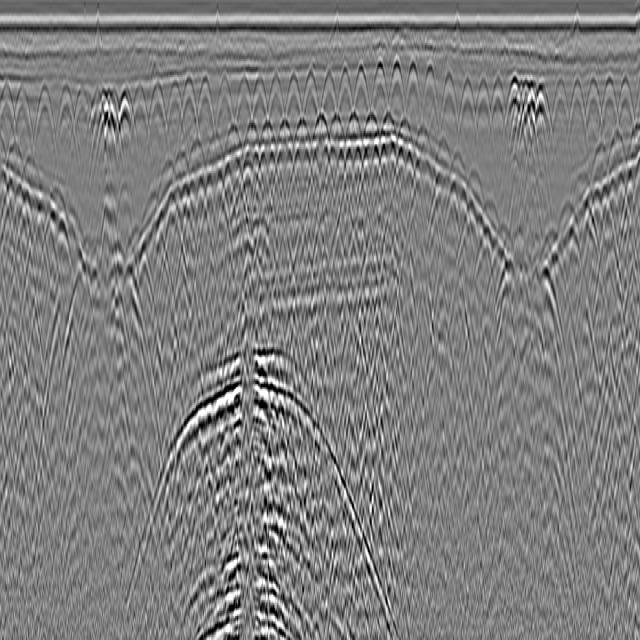hyperbola: (54, 74, 85, 185), (177, 67, 206, 177), (196, 60, 220, 160), (70, 68, 92, 176), (13, 55, 33, 166), (502, 68, 525, 158), (455, 61, 477, 153), (32, 81, 54, 171), (439, 47, 458, 150), (530, 68, 553, 153), (490, 58, 508, 161), (598, 64, 618, 156), (282, 55, 304, 138), (232, 52, 252, 143), (370, 52, 391, 138), (616, 55, 635, 150), (131, 55, 148, 161), (116, 77, 135, 171), (353, 54, 374, 138), (475, 68, 493, 166), (216, 55, 234, 151), (421, 42, 439, 138), (388, 49, 406, 142), (164, 64, 182, 156), (147, 81, 168, 158), (584, 74, 602, 161), (569, 71, 586, 161), (319, 55, 338, 133), (0, 58, 15, 156), (266, 55, 285, 130), (301, 62, 320, 135), (251, 68, 267, 153), (551, 80, 570, 150), (405, 52, 421, 131), (336, 65, 354, 135), (315, 95, 333, 162)
